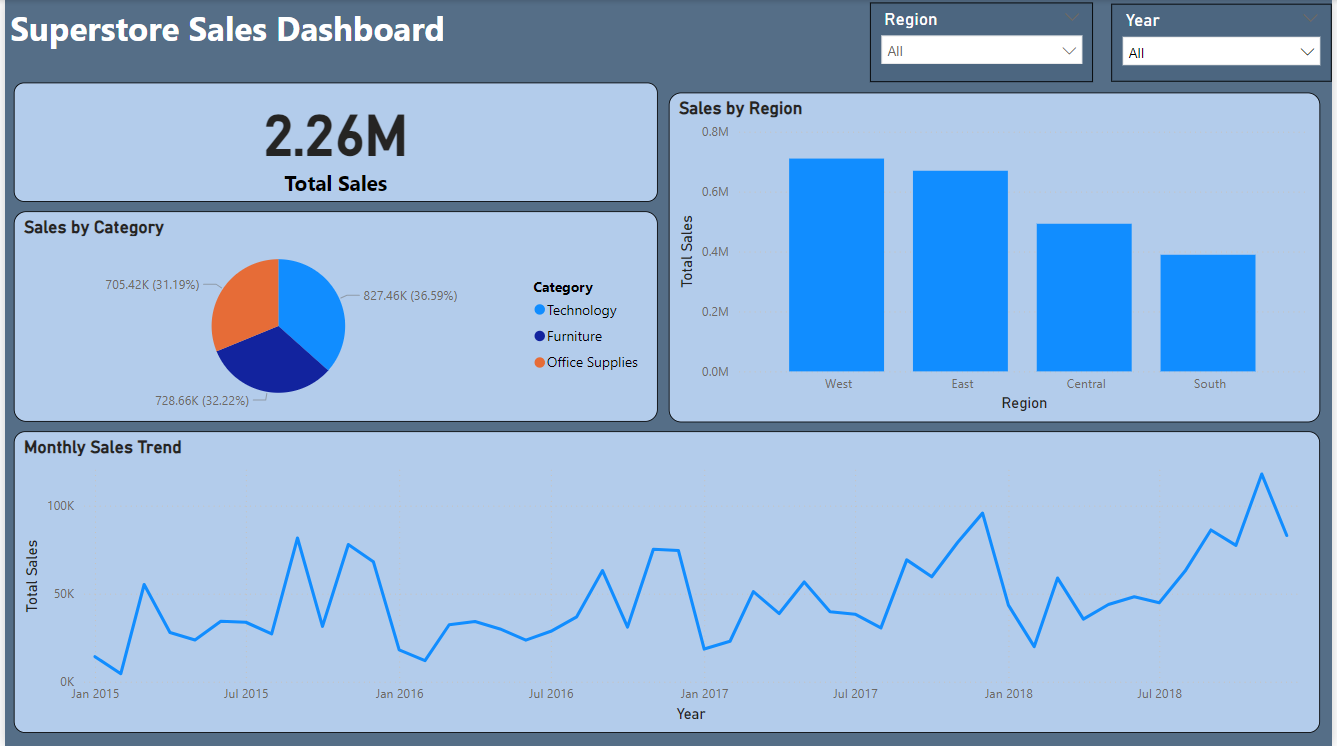

Layout of this report page (visuals, bound fields, positions):
{"tool":"powerbi","page":{"name":"Page 1","canvas":[1280,720],"ordinal":0},"visuals":[{"type":"textbox","box":[0,0,1280.3,79.6],"z":0},{"type":"card","fields":{"Values":["cleaned_superstore_sales_data.Sales"]},"box":[8.2,79.6,621.6,115.3],"z":1000},{"type":"clusteredColumnChart","title":"Sales by Region","fields":{"Category":["cleaned_superstore_sales_data.Region"],"Y":["cleaned_superstore_sales_data.Sales"]},"box":[640.8,89.2,628.5,318.4],"z":2000},{"type":"lineChart","title":"Monthly Sales Trend","fields":{"Category":["cleaned_superstore_sales_data.Order Date.Variation.Date Hierarchy.Year","cleaned_superstore_sales_data.Order Date.Variation.Date Hierarchy.Month"],"Y":["cleaned_superstore_sales_data.Sales"]},"box":[8.2,415.8,1261.1,290.9],"z":3000},{"type":"pieChart","title":"Sales by Category","fields":{"Category":["cleaned_superstore_sales_data.Category"],"Y":["cleaned_superstore_sales_data.Sales"]},"box":[8.2,204.5,621.6,203.1],"z":4000},{"type":"slicer","fields":{"Values":["cleaned_superstore_sales_data.Region"]},"box":[834.3,2.7,215.4,76.8],"z":5000},{"type":"slicer","fields":{"Values":["cleaned_superstore_sales_data.Year"]},"box":[1067.6,4.1,212.7,75.5],"z":6000}]}

Visuals, with their boxes in screenshot pixels (x1, y1, x2, y2), scaled from the page's 1280x720 canvas onto the 1337x746 screenshot:
textbox: 0 0 1336 82
card - cleaned_superstore_sales_data.Sales: 9 82 658 202
"Sales by Region" clusteredColumnChart: 669 92 1326 422
"Monthly Sales Trend" lineChart: 9 431 1326 732
"Sales by Category" pieChart: 9 212 658 422
slicer - cleaned_superstore_sales_data.Region: 871 3 1096 82
slicer - cleaned_superstore_sales_data.Year: 1115 4 1336 82
